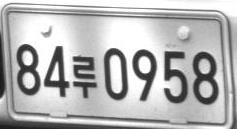0: (103, 47, 128, 101)
4: (42, 45, 70, 97)
5: (163, 50, 188, 104)
8: (191, 51, 219, 105), (15, 43, 41, 95)
9: (132, 49, 158, 101)
루: (71, 55, 97, 99)
